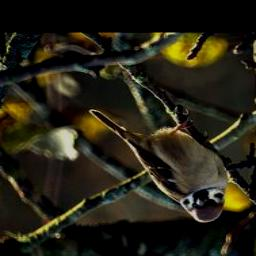Sparrow: (88, 106, 228, 225)
